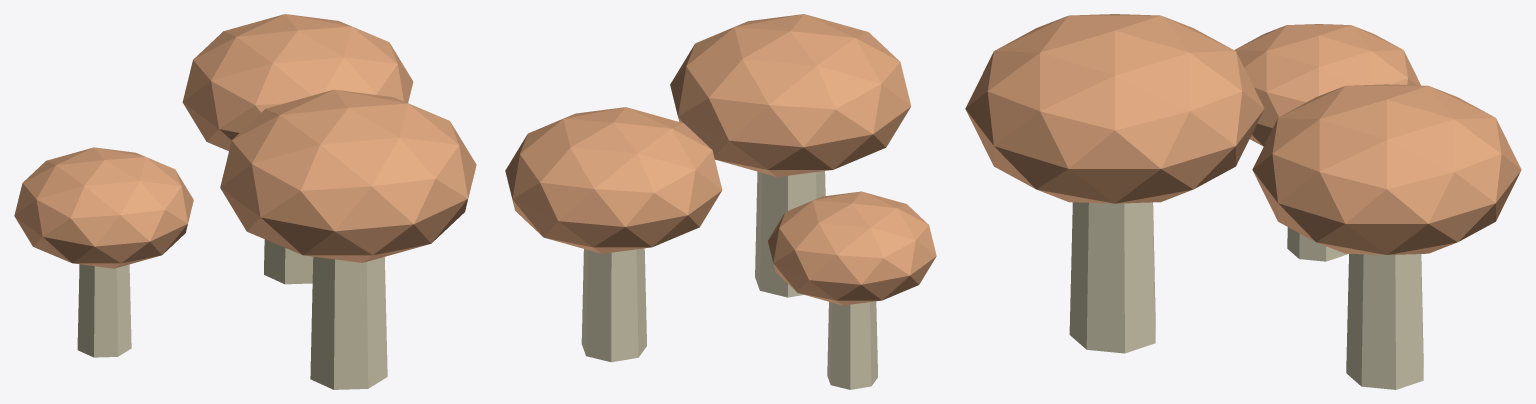
File: CC_CropFungus_Mature.fbx
3 views of the same model, side by side, from view 1: azimuth 30°, elevation 25°; view 2: azimuth 150°, elevation 25°; view 3: azimuth 270°, elevation 25° (orthographic). The views are drawn at different scales.
Visible parts, largest first — view 1: Cap.005, Cap.004, Cap.003, Stem.005, Stem.003, Stem.004; view 2: Cap.005, Cap.004, Cap.003, Stem.004, Stem.003, Stem.005; view 3: Cap.005, Cap.004, Stem.005, Cap.003, Stem.004, Stem.003.
Boxes of the visible parts, <box> form: Cap.005: <box>220,89,476,262</box>; Cap.004: <box>182,14,413,150</box>; Cap.003: <box>14,147,193,268</box>; Stem.005: <box>310,256,387,389</box>; Stem.003: <box>77,264,131,357</box>; Stem.004: <box>264,239,313,284</box>; Cap.005: <box>670,14,911,176</box>; Cap.004: <box>505,107,722,253</box>; Cap.003: <box>768,191,936,305</box>; Stem.004: <box>581,248,646,362</box>; Stem.003: <box>827,301,877,389</box>; Stem.005: <box>755,171,825,297</box>; Cap.005: <box>965,14,1264,203</box>; Cap.004: <box>1252,84,1521,254</box>; Stem.005: <box>1069,202,1155,353</box>; Cap.003: <box>1234,24,1420,146</box>; Stem.004: <box>1346,254,1423,389</box>; Stem.003: <box>1287,227,1347,261</box>.
Size of the model in its own units: 1.15 by 0.74 by 1.23.
